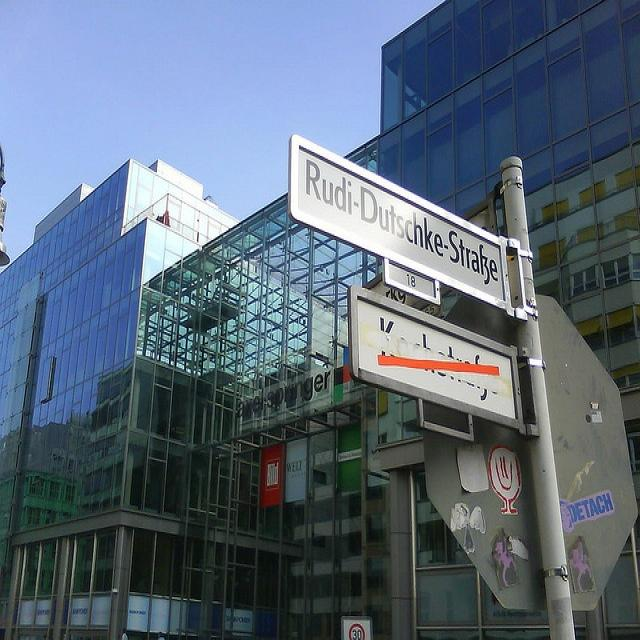pole: (495, 148, 577, 639)
